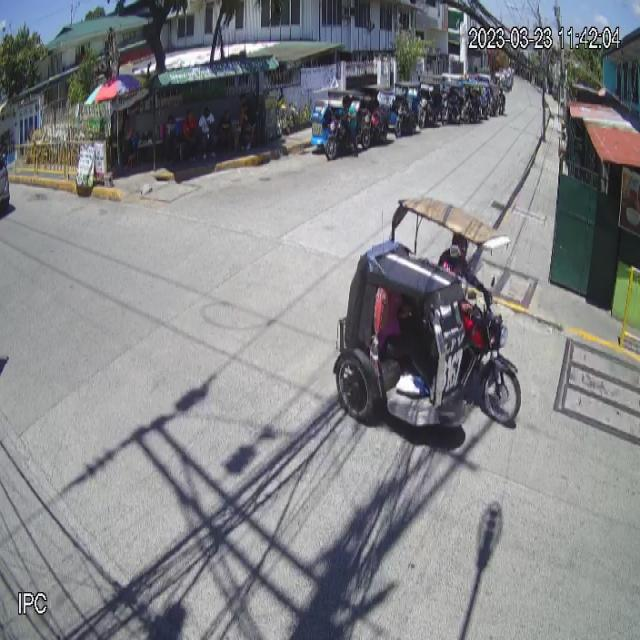Tricycle: (333, 192, 523, 426)
